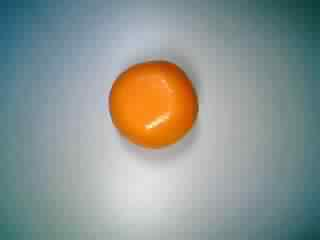orange: (104, 57, 205, 154)
